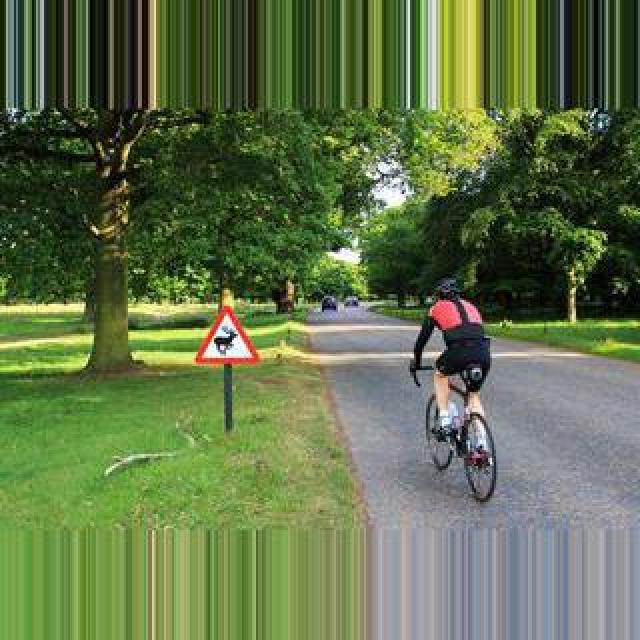MC-Bike: (410, 282, 492, 446)
Person: (415, 359, 497, 499)
